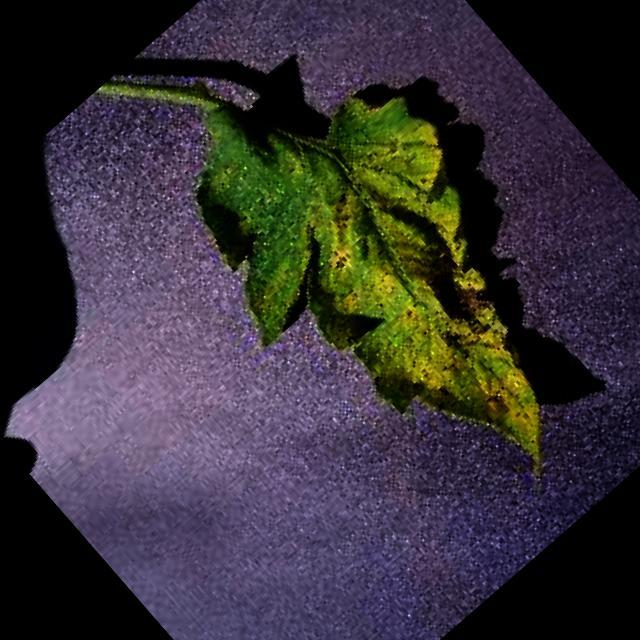Tomato Septoria spot leaf: (121, 3, 640, 561)
